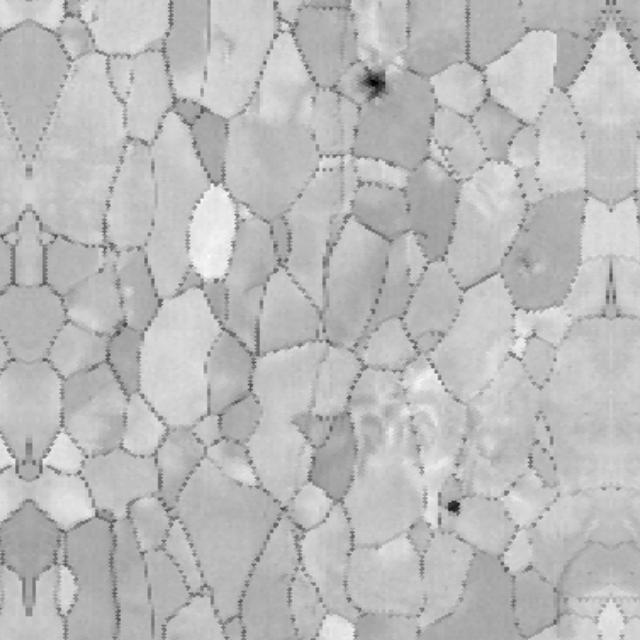good_void: (344, 66, 407, 103), (424, 485, 474, 523), (510, 248, 535, 281), (404, 200, 414, 218), (402, 267, 415, 279), (90, 12, 99, 25)
